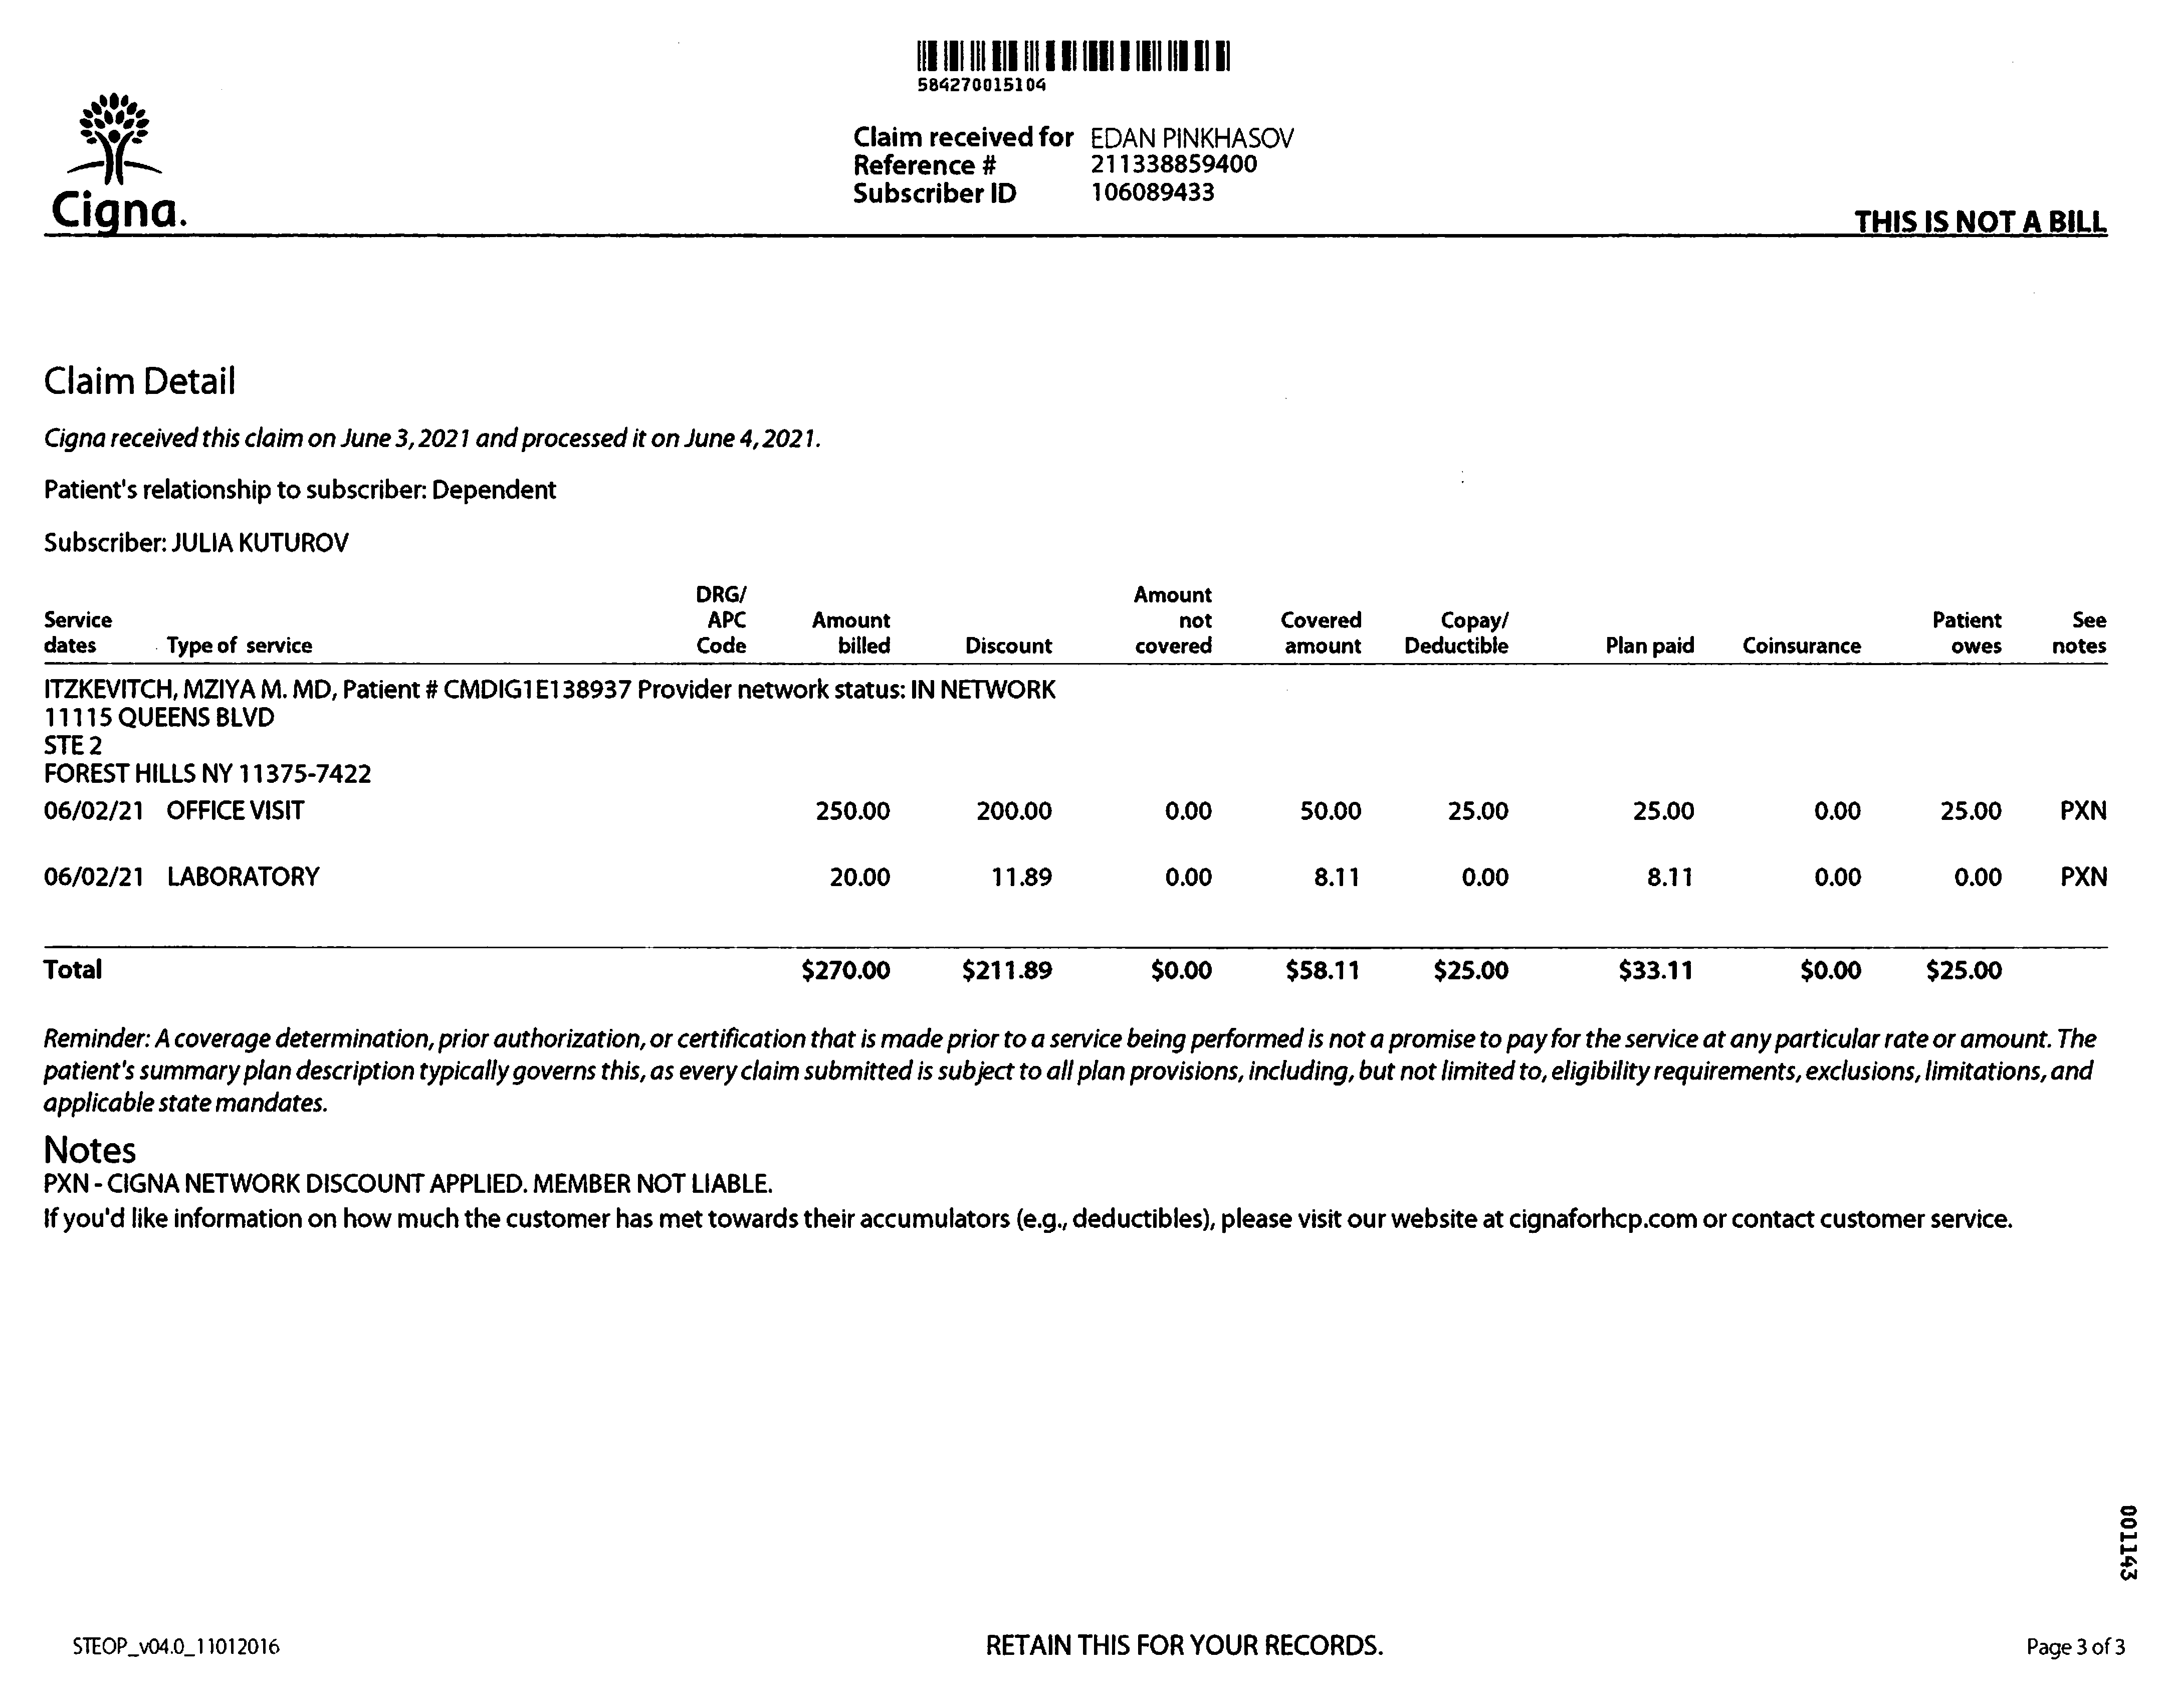data: (835, 115, 1299, 221)
table: (30, 572, 2125, 999)
